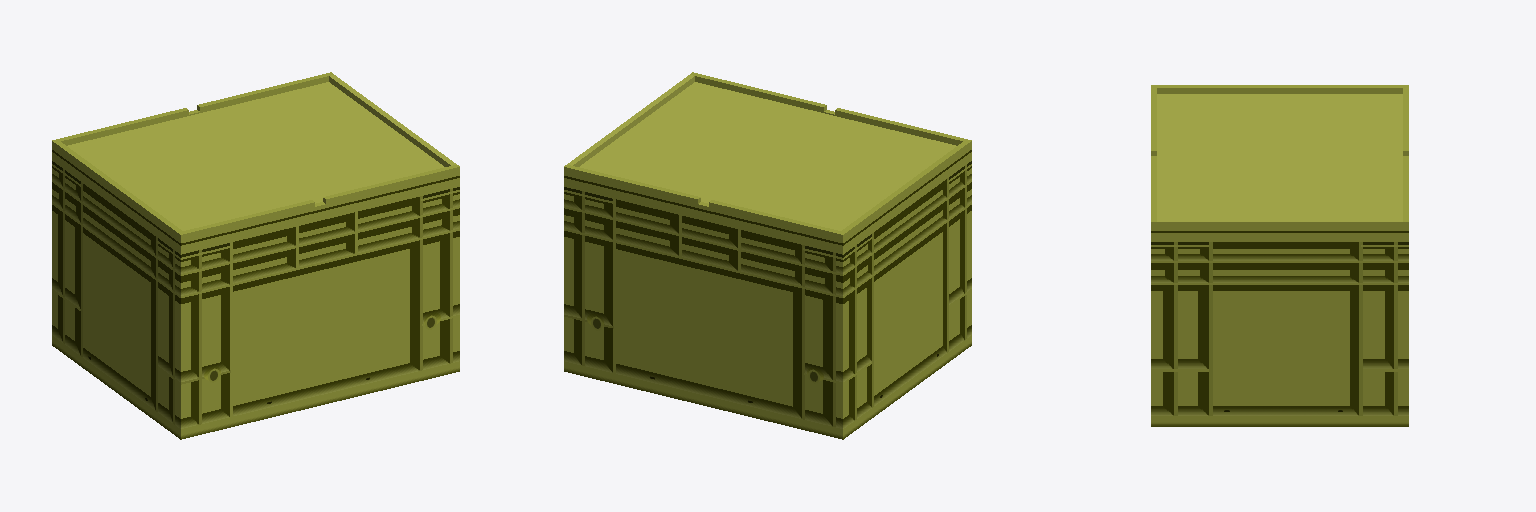
The picture shows the model from 3 angles: view 1: azimuth 30°, elevation 25°; view 2: azimuth 150°, elevation 25°; view 3: azimuth 270°, elevation 25°; orthographic projection.
Parts seen in each view (by area): view 1: Mesh1; view 2: Mesh1; view 3: Mesh1.
Part boxes in pixels (x1,y1,x2,y2): Mesh1: (52, 72, 459, 439); Mesh1: (564, 72, 971, 439); Mesh1: (1151, 85, 1408, 426).
Bounding box in the file's own units: 500 × 350 × 400.
Materials: 1 (1 with a texture image).